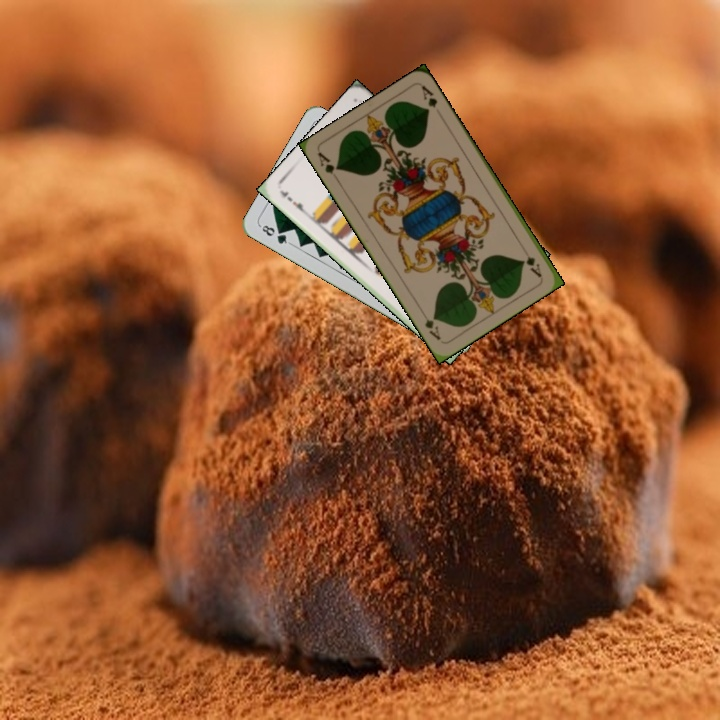E7: (276, 186, 310, 217)
G8: (256, 221, 293, 247)
GA: (314, 148, 342, 185), (522, 252, 544, 280)
